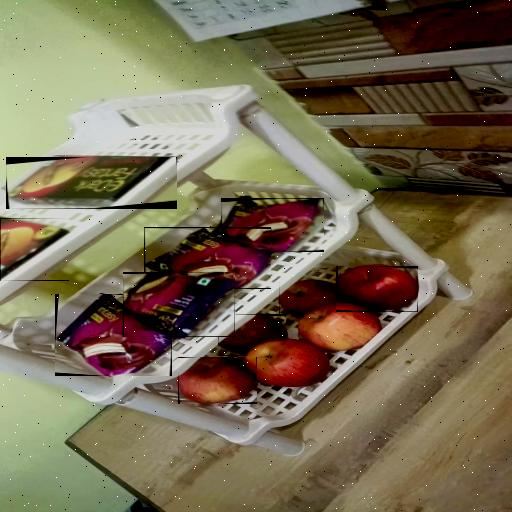Apple: (178, 358, 257, 406), (336, 266, 418, 312), (218, 314, 286, 356), (279, 280, 341, 318)
Choco Fills: (6, 157, 177, 209), (0, 218, 69, 281)
Choco Pie: (55, 294, 172, 376), (145, 228, 271, 288), (124, 272, 235, 337), (221, 198, 324, 252)
